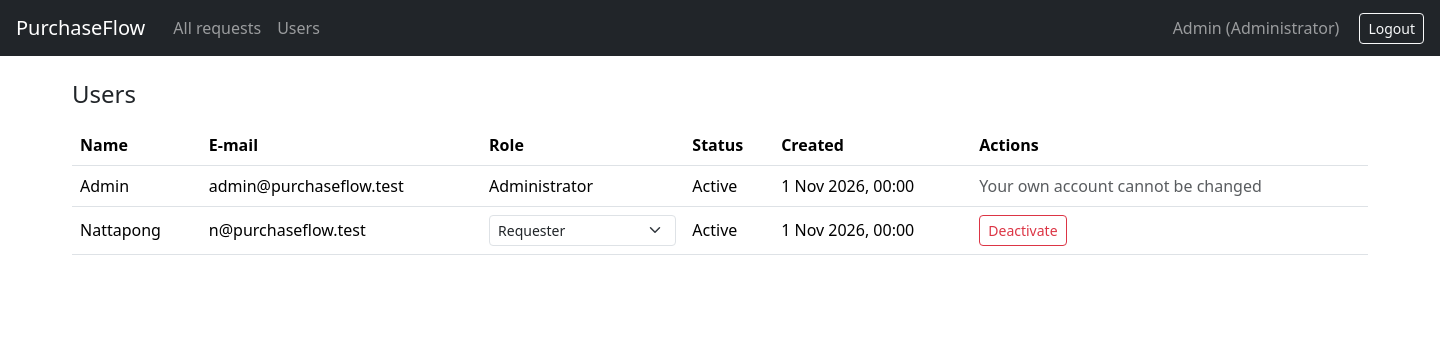
request screens (component) › CT-12 / AC-44: the administrator's own row is locked and another user can be deactivated
Expected: the text "Your own account cannot be changed" is shown, [979, 175, 1262, 197]
Click the button with aria-label "Deactivate Nattapong" at (1023,230), box [979, 215, 1067, 246]
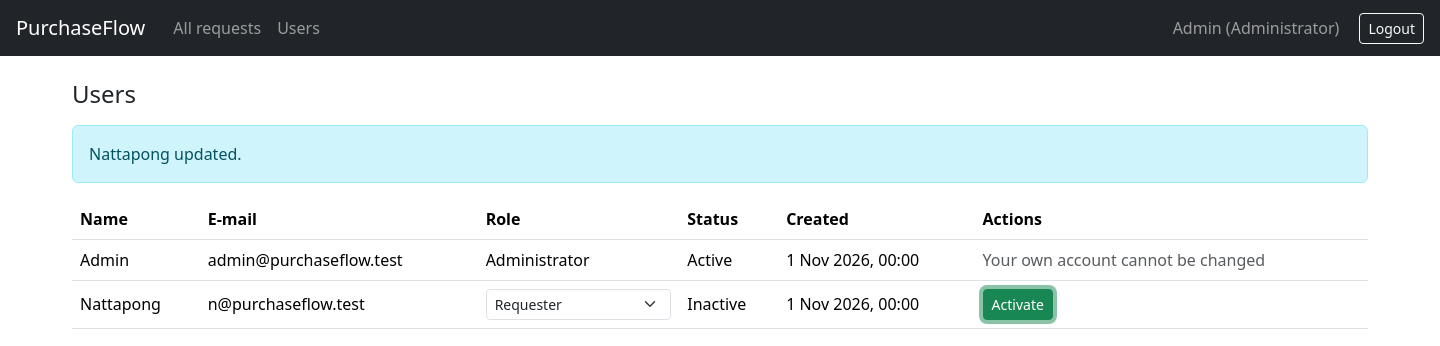
Expected: the cell with test id "status-9" reads "Inactive", [687, 293, 746, 315]
